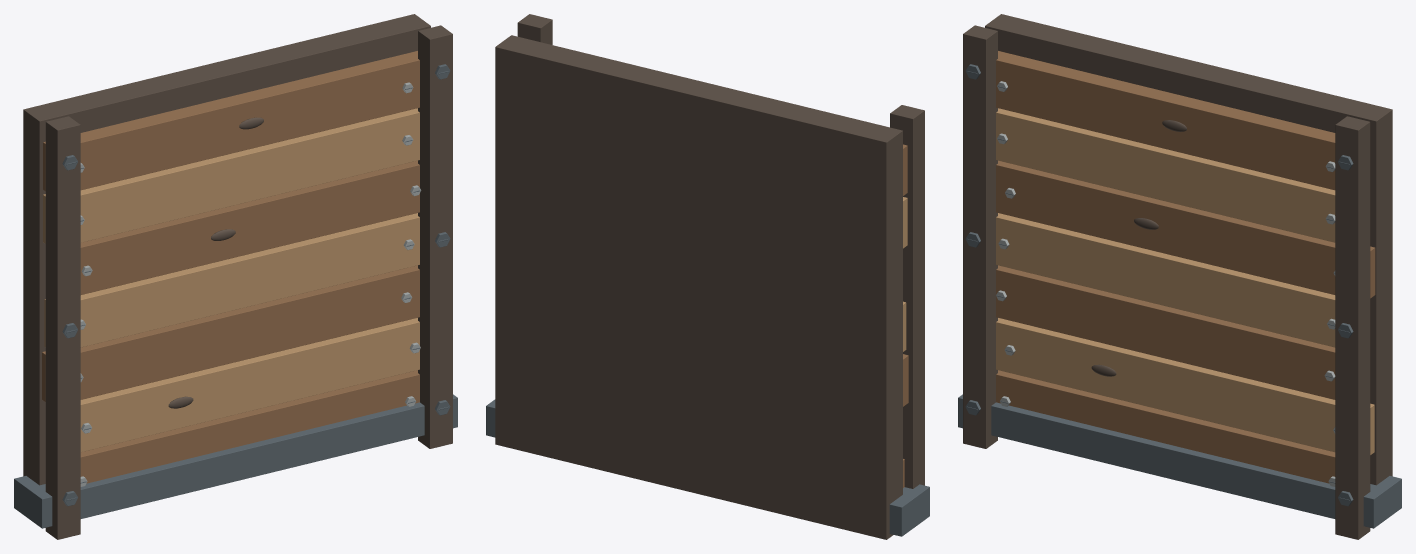
File: 02_Wooden_Wall_Panel.fbx
The picture shows the model from 3 angles, left to right: view 1: azimuth 30°, elevation 25°; view 2: azimuth 150°, elevation 25°; view 3: azimuth 330°, elevation 25°; orthographic projection.
Parts seen in each view (by area): view 1: 02_Wooden_Wall_Panel; view 2: 02_Wooden_Wall_Panel; view 3: 02_Wooden_Wall_Panel.
Boxes of the visible parts, left/top/right/bottom form: 02_Wooden_Wall_Panel: left=14, top=14, right=457, bottom=539; 02_Wooden_Wall_Panel: left=486, top=14, right=929, bottom=539; 02_Wooden_Wall_Panel: left=958, top=14, right=1401, bottom=539.
Bounding box in the file's own units: 3.24 × 3.05 × 0.5226.
